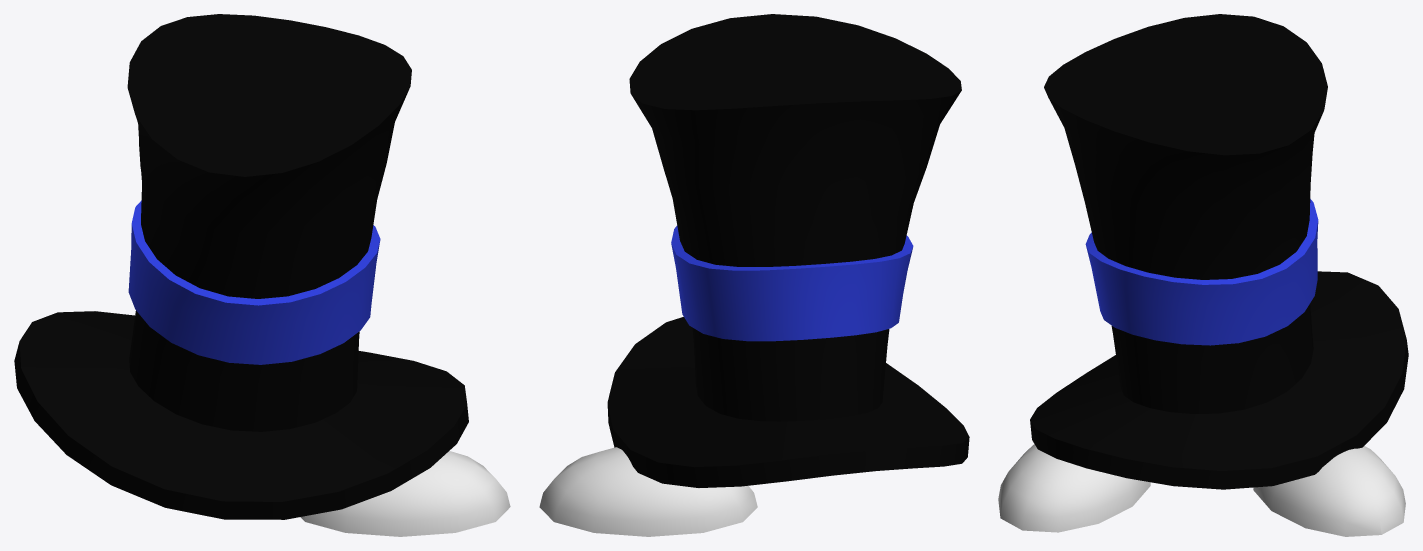
The model's file is Vendedor Azul.fbx.
3 views of the same model, side by side, from view 1: azimuth 30°, elevation 25°; view 2: azimuth 150°, elevation 25°; view 3: azimuth 270°, elevation 25° (orthographic). The views are drawn at different scales.
Parts seen in each view (by area): view 1: gemelo a1, gemelo a3; view 2: gemelo a1, gemelo a2; view 3: gemelo a1, gemelo a2, gemelo a3.
Boxes of the visible parts, left/top/right/bottom form: gemelo a1: left=14, top=14, right=468, bottom=519; gemelo a3: left=300, top=451, right=510, bottom=536; gemelo a1: left=607, top=14, right=969, bottom=487; gemelo a2: left=539, top=447, right=757, bottom=536; gemelo a1: left=1030, top=14, right=1408, bottom=489; gemelo a2: left=1253, top=446, right=1405, bottom=536; gemelo a3: left=998, top=444, right=1150, bottom=532.
Size of the model in its own units: 1671 by 1876 by 1735.
